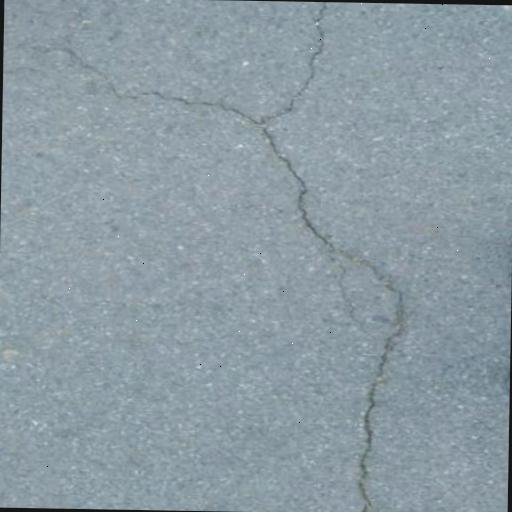spalling: (22, 31, 416, 505), (254, 3, 351, 137)
